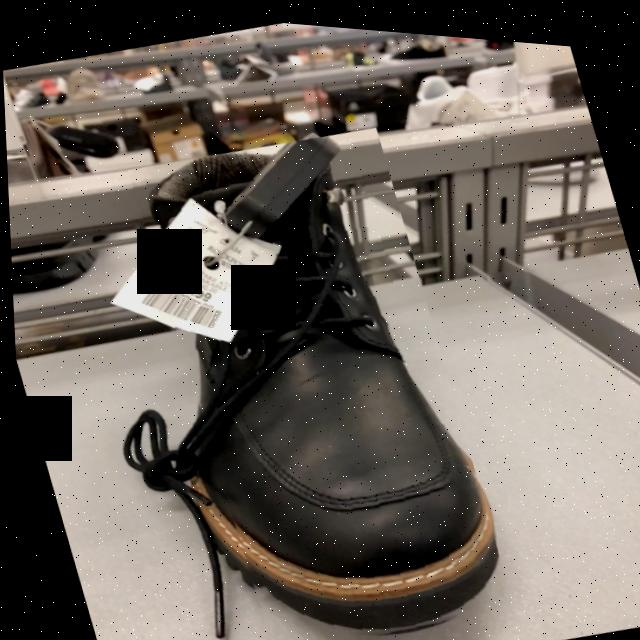shoe: (156, 143, 495, 632)
